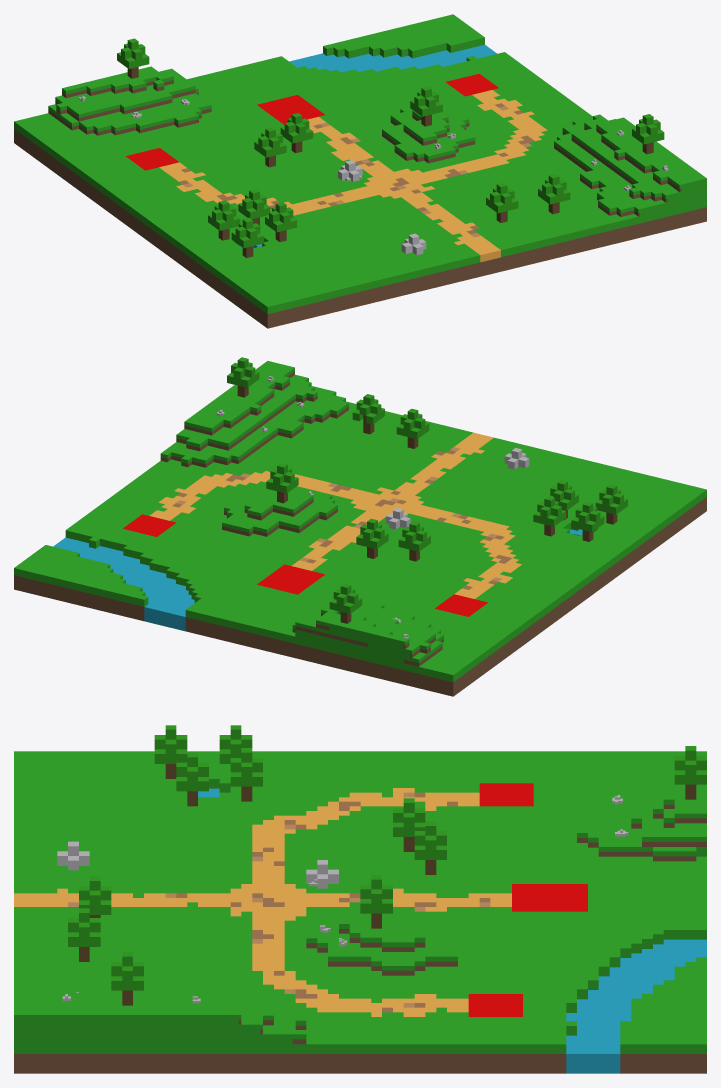
The model's file is BackImage.obj.
3 views of the same model, one above another, from view 1: azimuth 30°, elevation 25°; view 2: azimuth 150°, elevation 25°; view 3: azimuth 270°, elevation 25° (orthographic). The views are drawn at different scales.
Size of the model in its own units: 25.6 by 4.4 by 25.6.
1 material, 1 textured.
